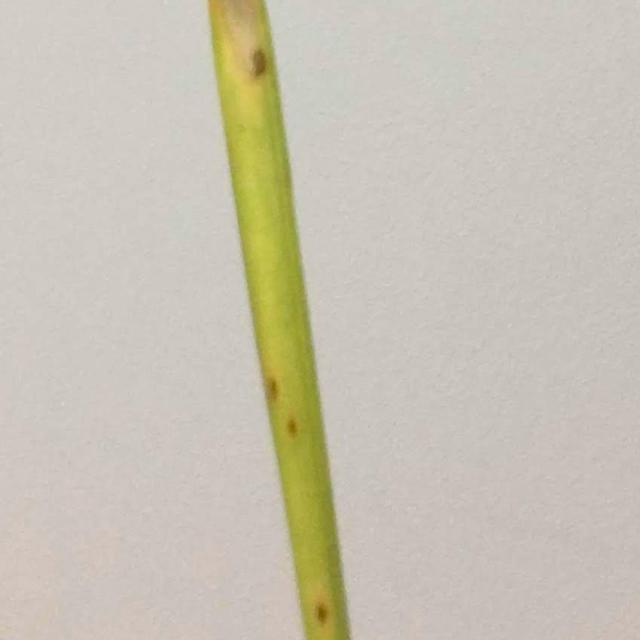Brown spot: (242, 46, 275, 83), (258, 368, 278, 403), (313, 592, 328, 628), (282, 413, 300, 439)
